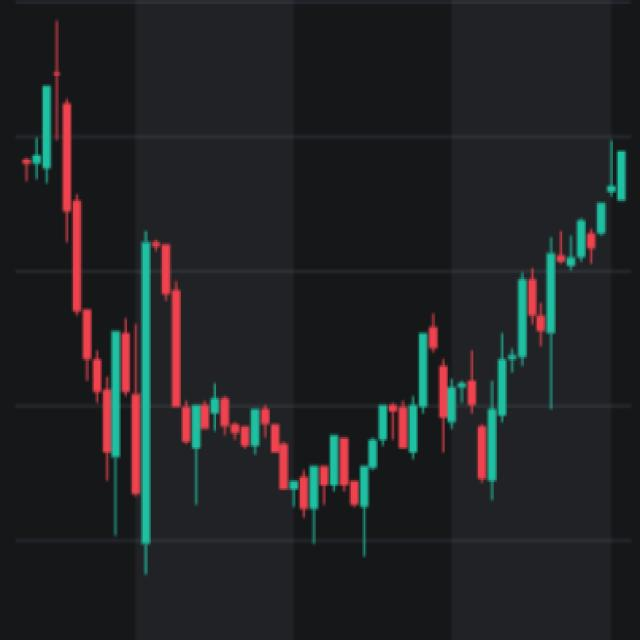Support-breakout: (28, 32, 212, 518)
